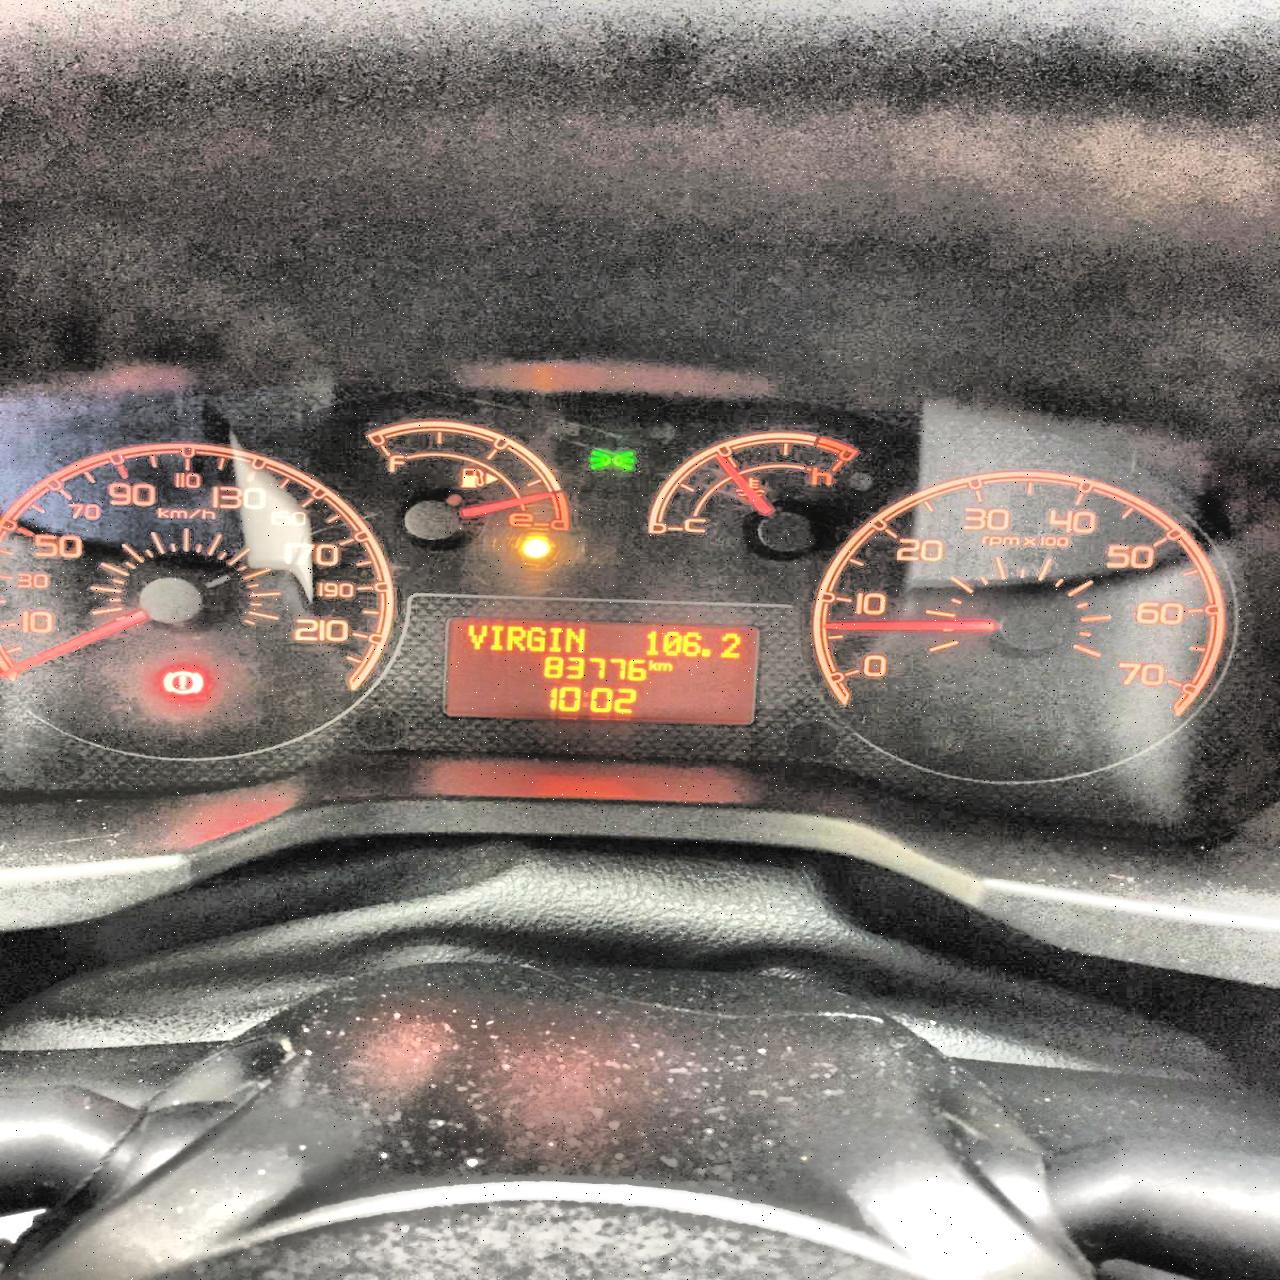-: (700, 647, 710, 658)
0: (590, 685, 611, 714), (661, 629, 682, 658), (558, 685, 579, 712)
1: (642, 627, 661, 656), (545, 686, 557, 710)
2: (716, 631, 743, 659), (612, 687, 636, 714)
3: (564, 656, 585, 680)
6: (681, 629, 702, 658), (627, 656, 646, 682)
7: (587, 655, 607, 679), (607, 656, 625, 681)
8: (539, 655, 564, 679)
X: (563, 625, 587, 654), (465, 621, 488, 649), (526, 624, 545, 652), (506, 622, 524, 652), (486, 622, 504, 651), (546, 624, 561, 653), (580, 688, 590, 709), (655, 661, 673, 672), (646, 656, 655, 672)
odometer: (433, 608, 769, 731)
